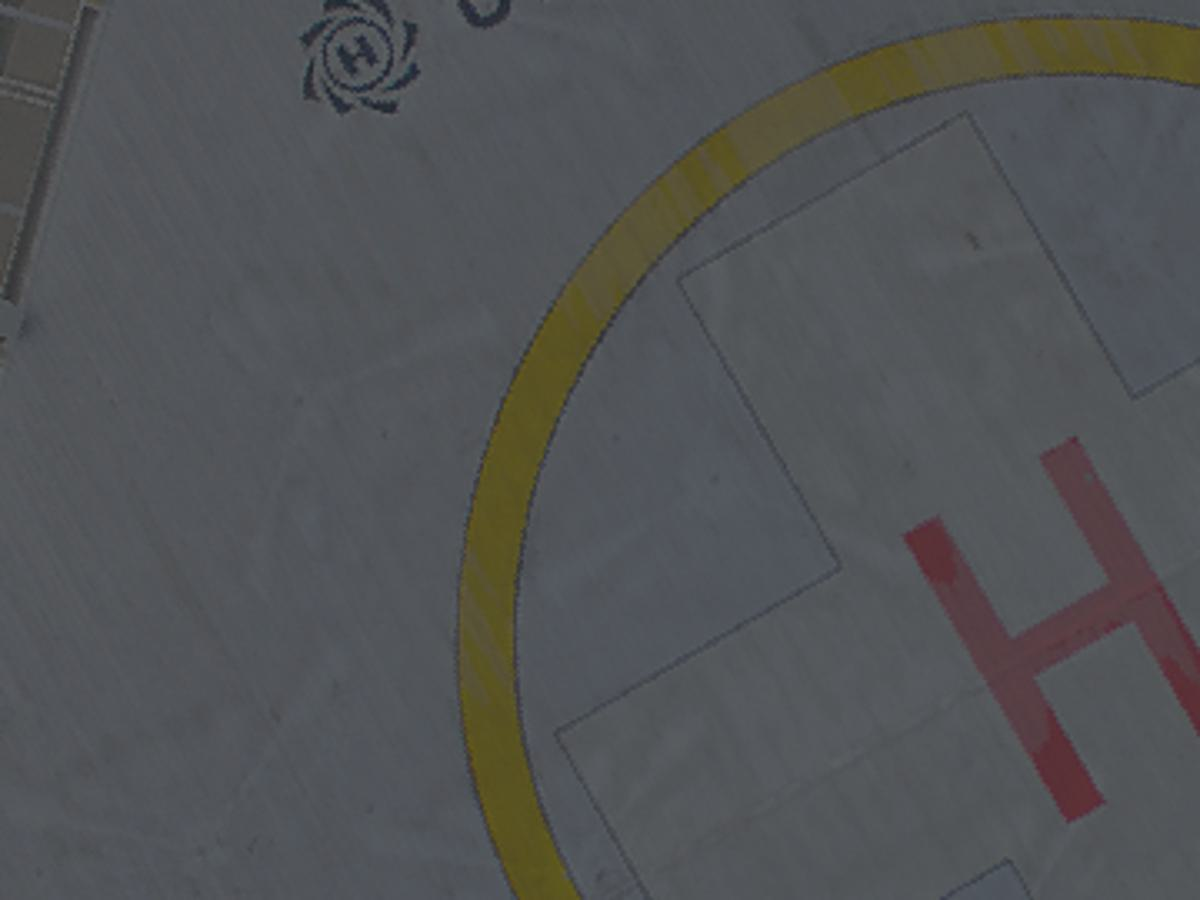Apron: (433, 13, 1200, 900)
